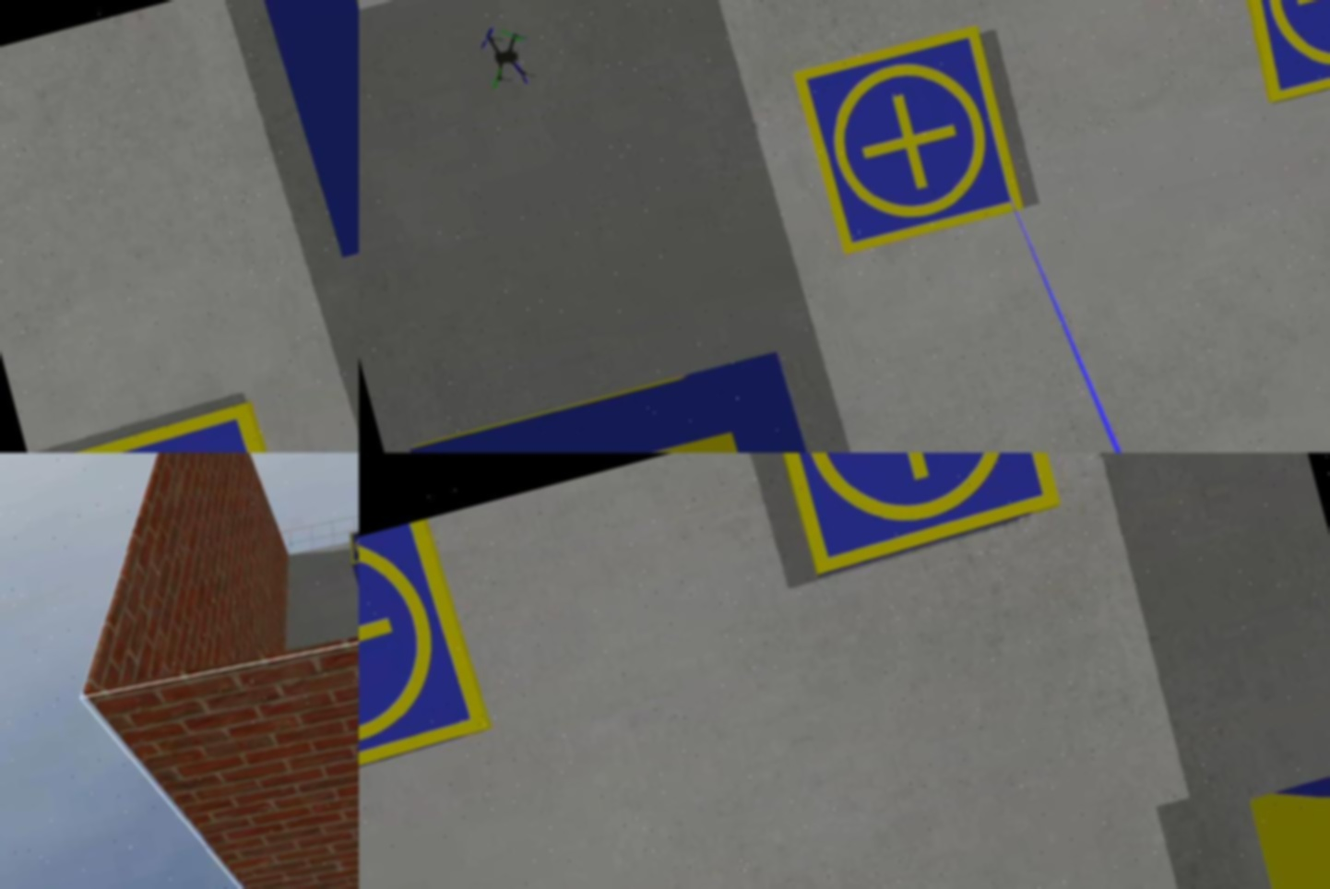large_base: (412, 349, 874, 454)
small_base: (791, 18, 1033, 266), (359, 516, 495, 801), (771, 454, 1064, 575), (30, 397, 329, 454), (1217, 1, 1330, 110), (343, 516, 359, 568)
